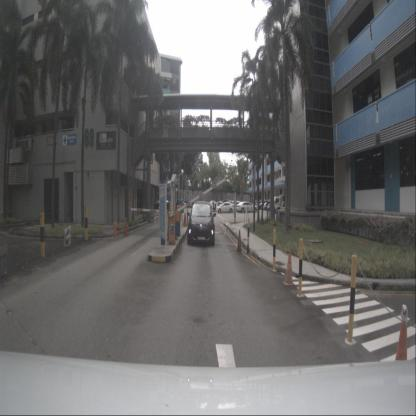human-pedestrian-adult: (282, 199, 285, 214)
movable_object-trafficcone: (389, 304, 411, 386), (283, 250, 295, 286), (235, 229, 243, 254), (123, 220, 129, 237), (113, 220, 118, 236), (183, 212, 187, 228)
vehicle-car: (187, 200, 215, 247), (235, 202, 258, 213), (216, 201, 234, 214), (207, 201, 219, 213)
vehicle-truck: (272, 196, 296, 217)
